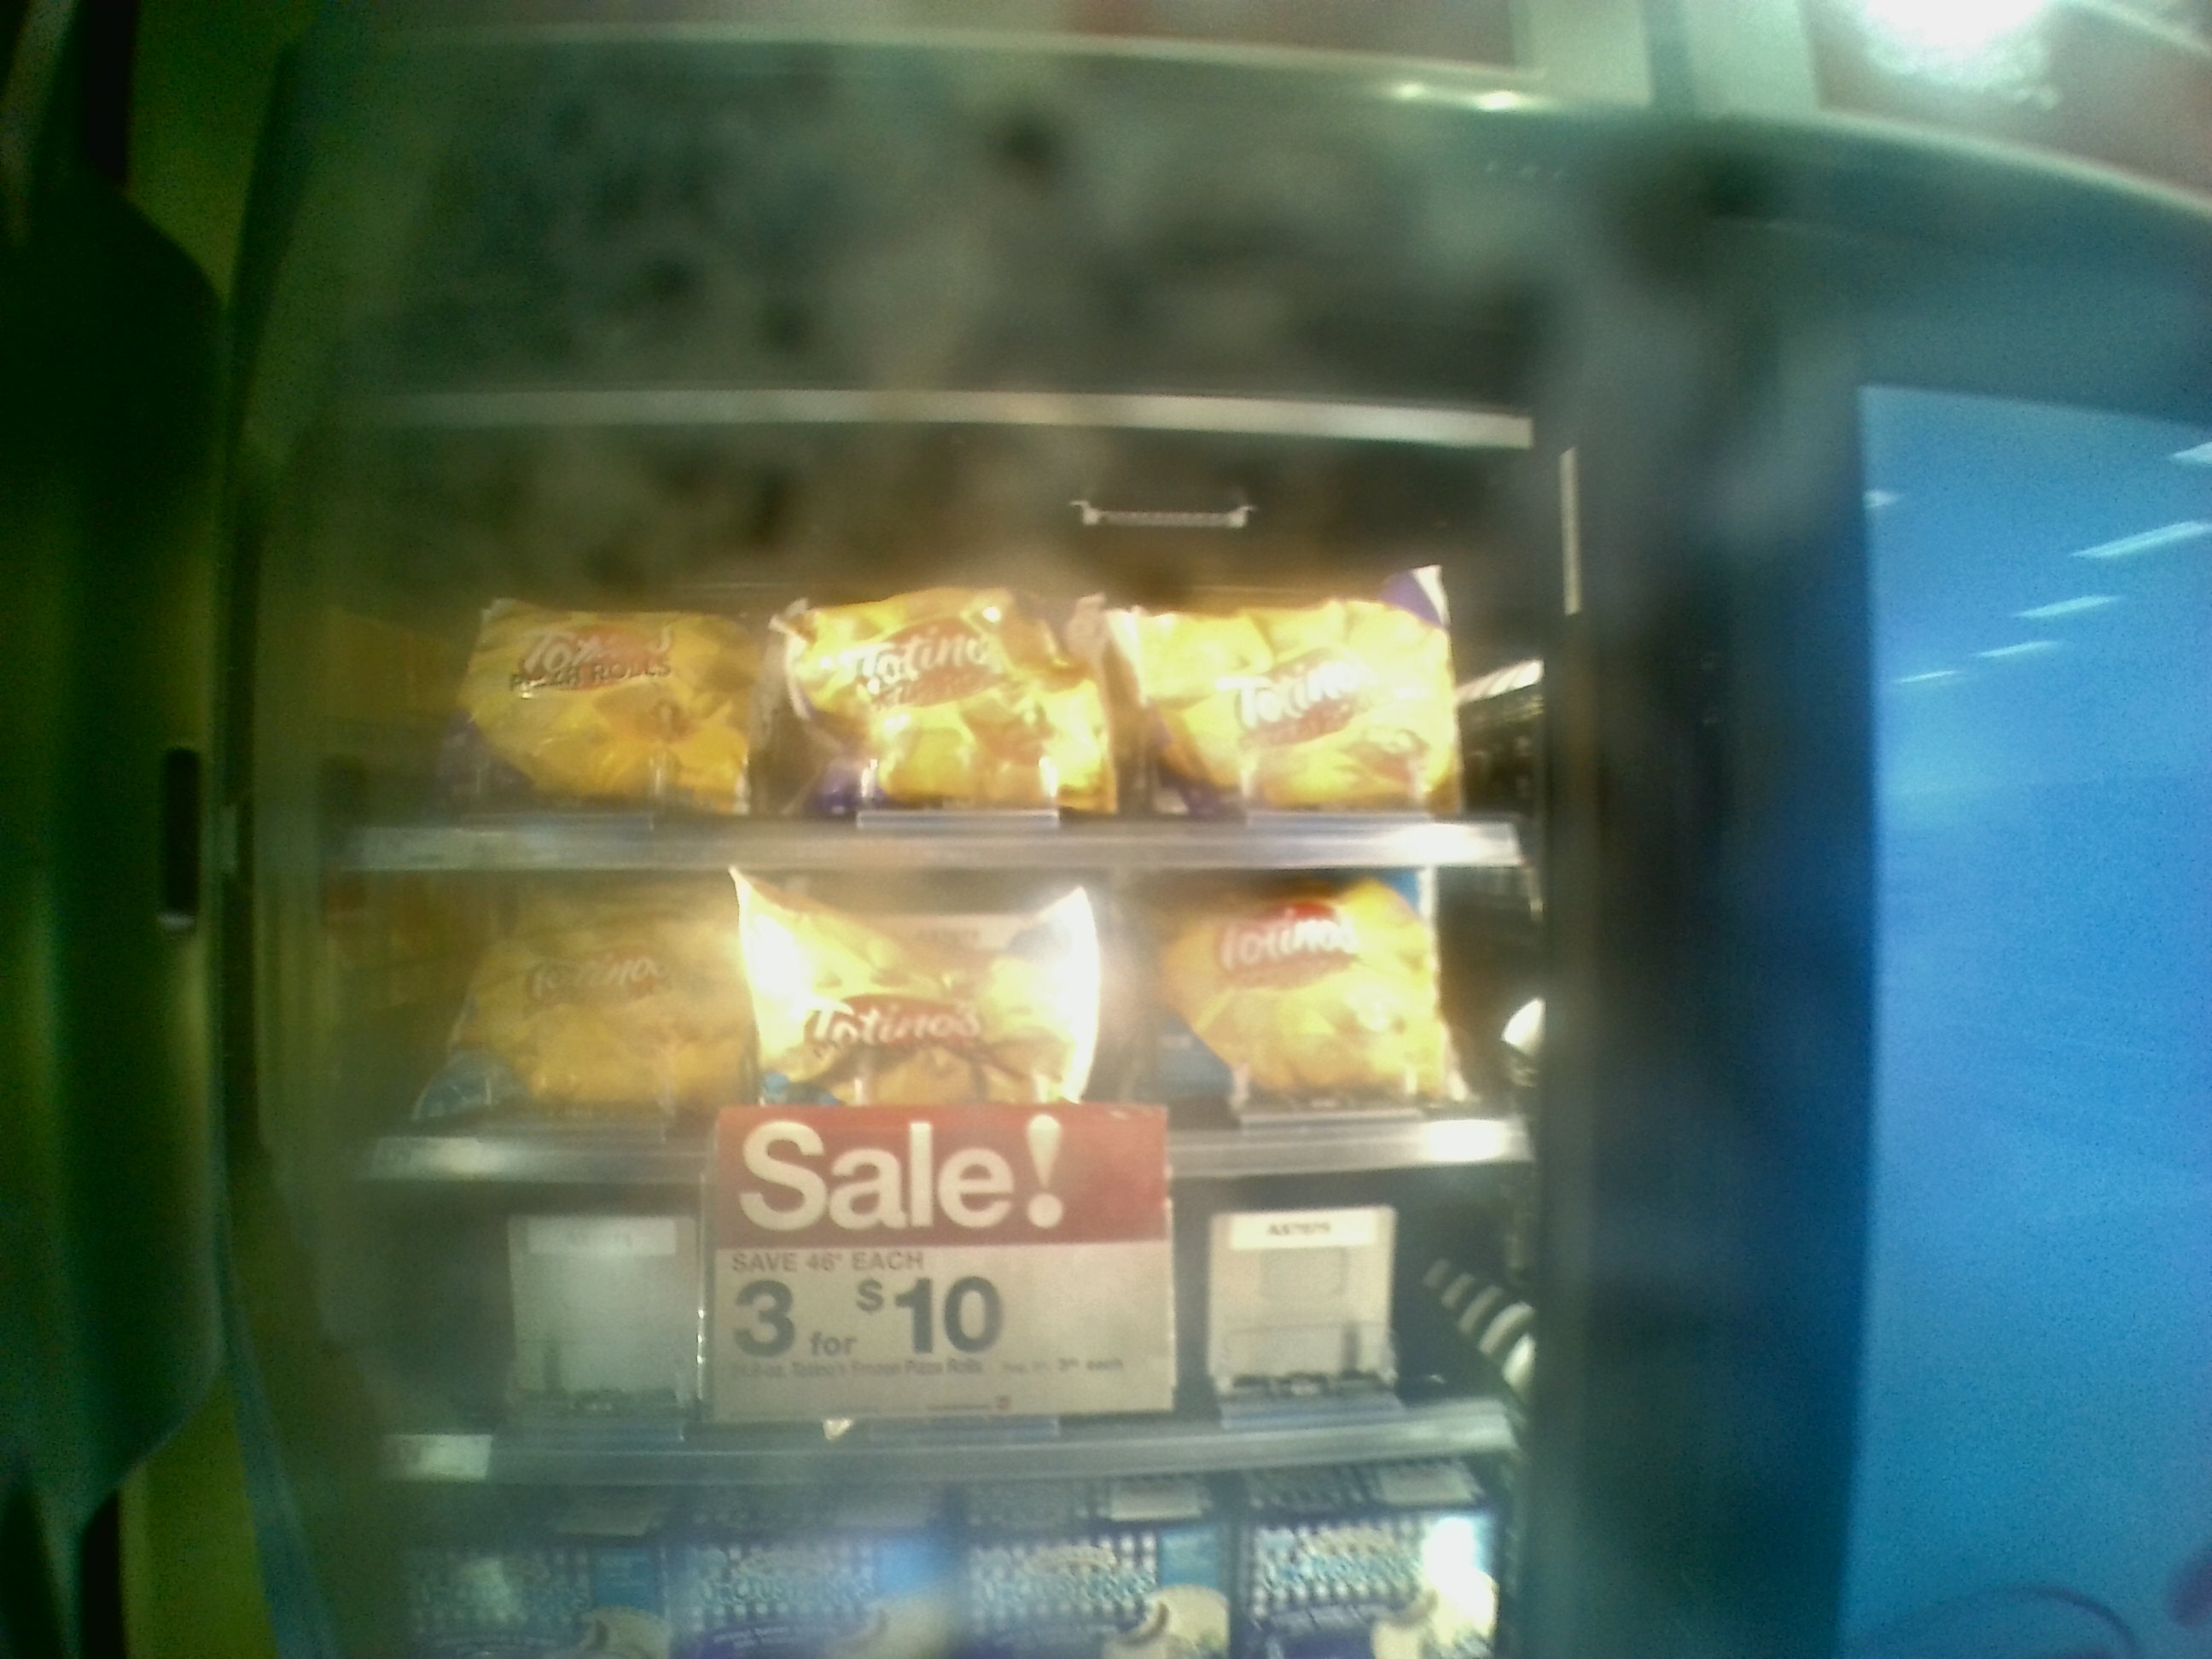shelf: (322, 856, 1529, 1166)
